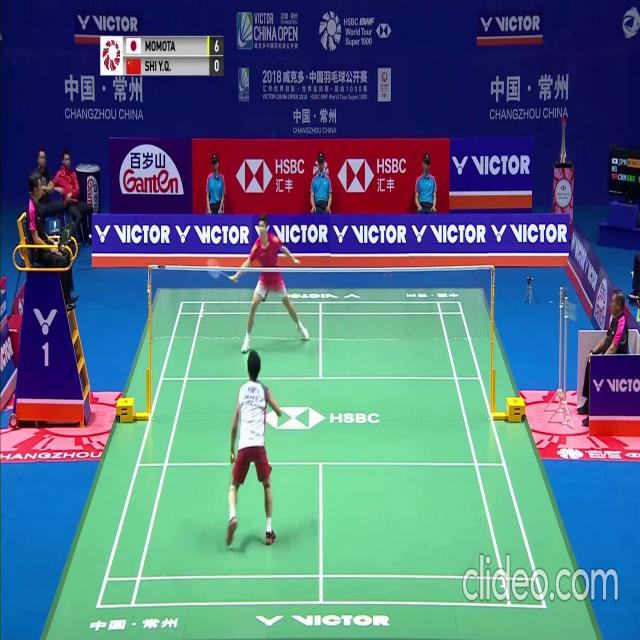Shuttlecock: (204, 232, 209, 240)
